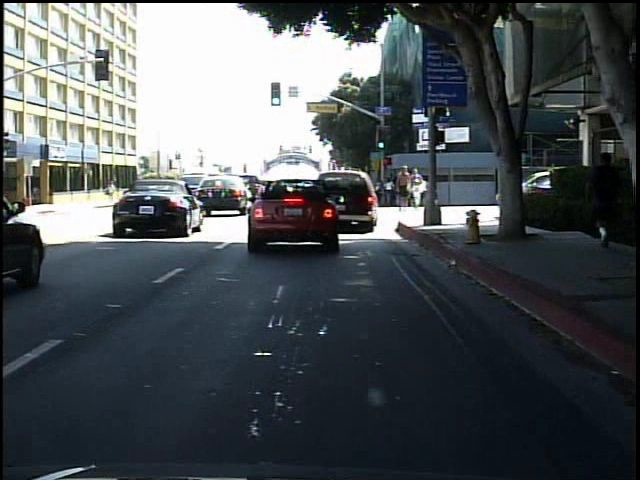person: (583, 143, 623, 250), (394, 164, 414, 214), (410, 176, 427, 210), (103, 178, 118, 204)
